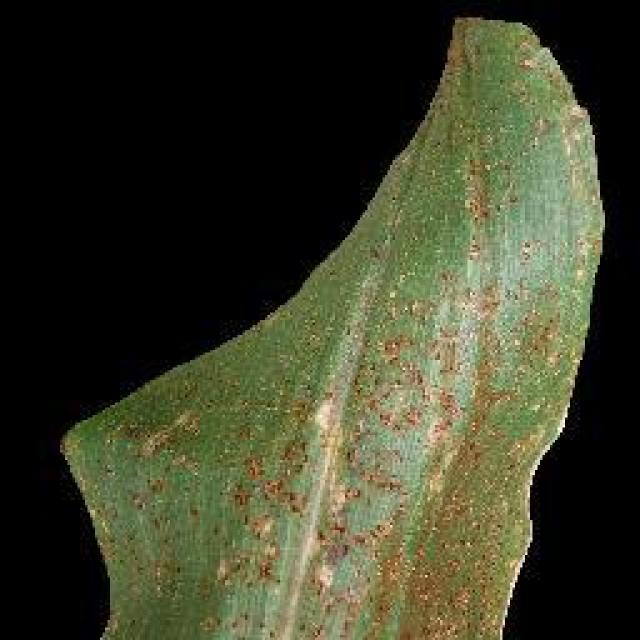Corn Common Rust: (157, 100, 525, 605)
